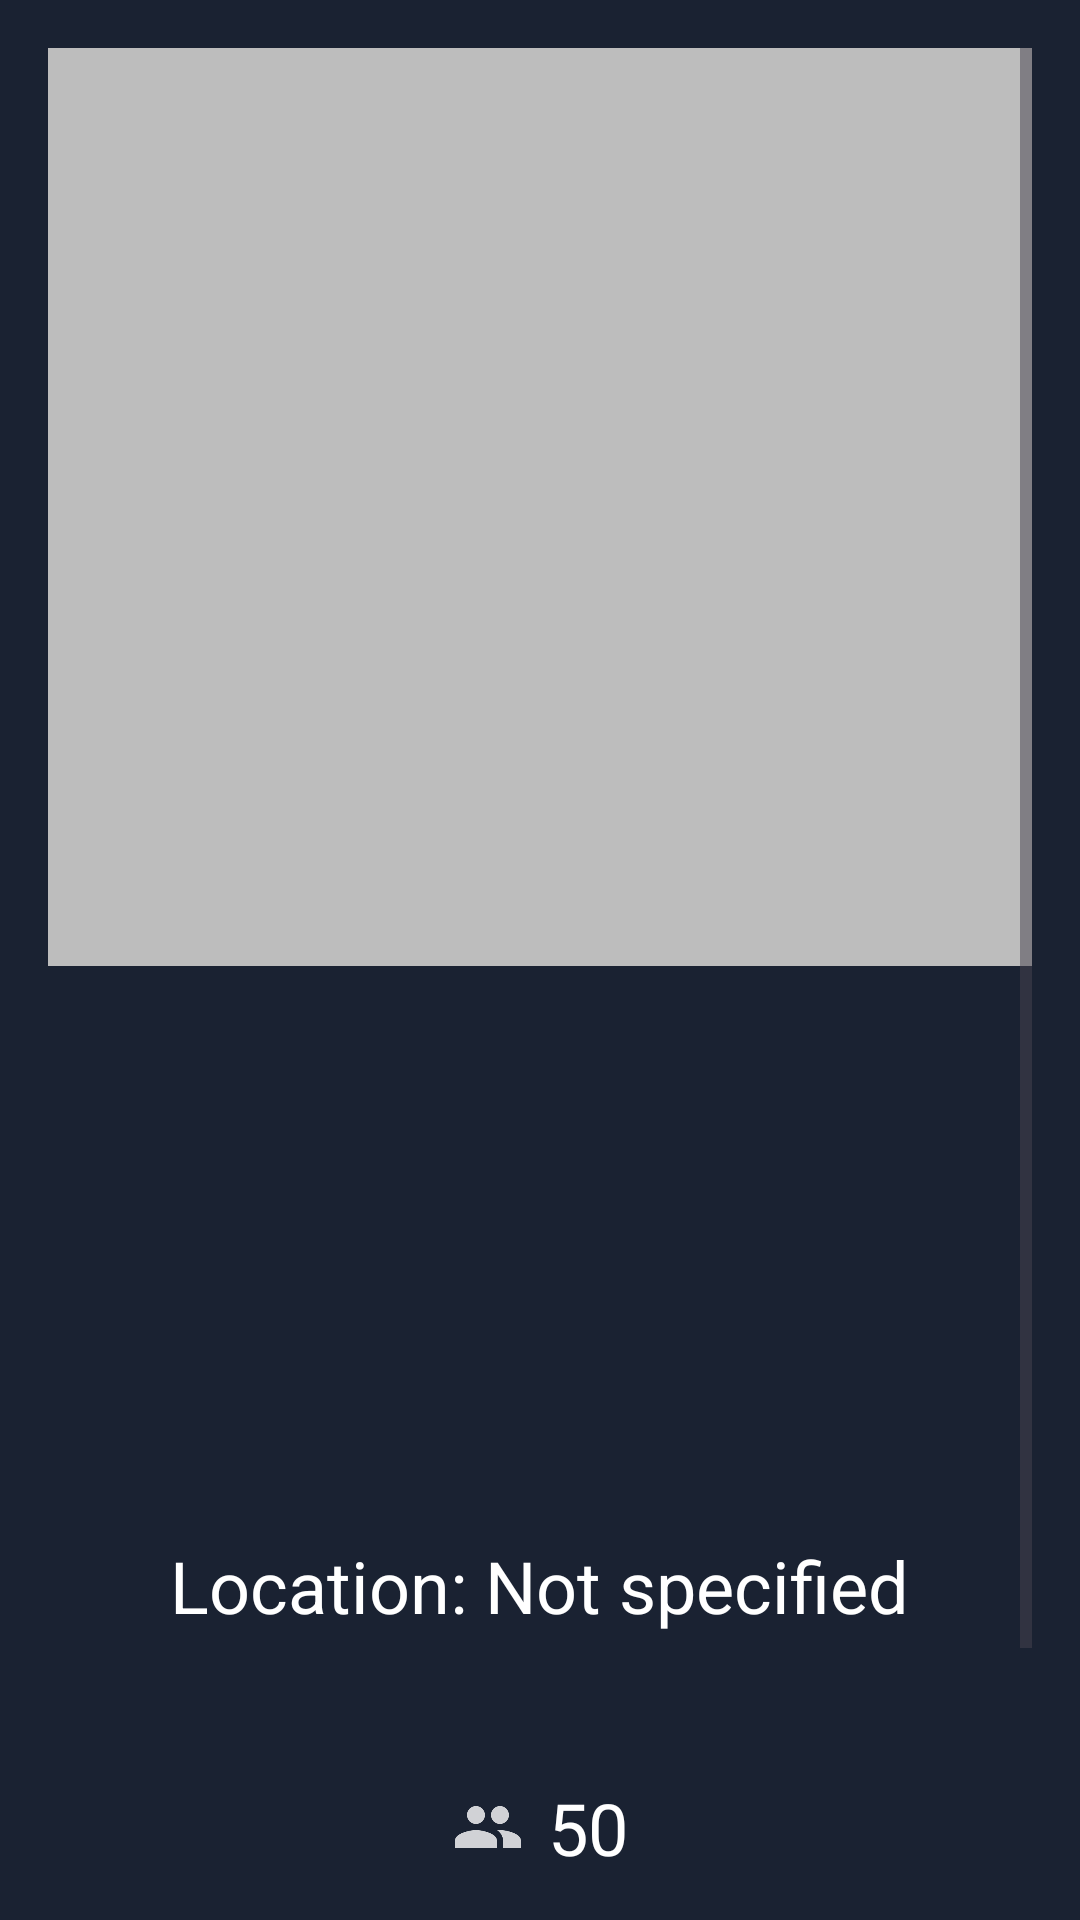

Locate icon controls on the screen. Image size 1080px x 1920px, boxes as (x1, y1, x2, y2).
Icon depicting a group of people: (455, 1806, 521, 1848)
